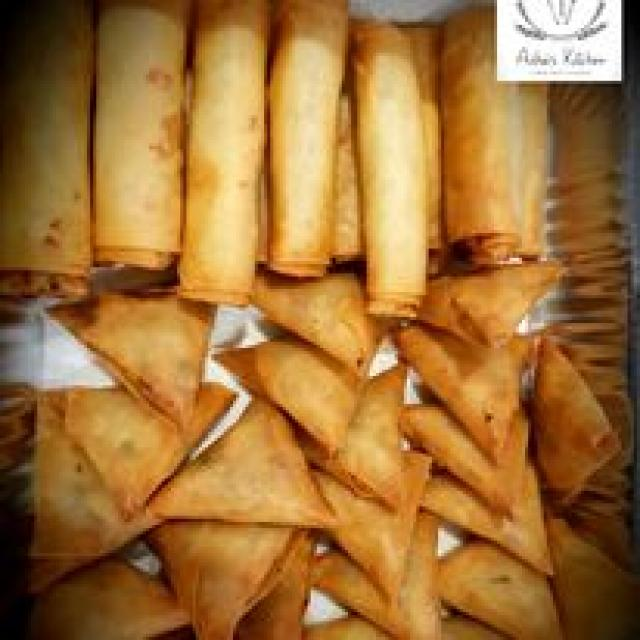Samosa: (3, 264, 621, 640)
Spring Rolls: (2, 2, 552, 279)
